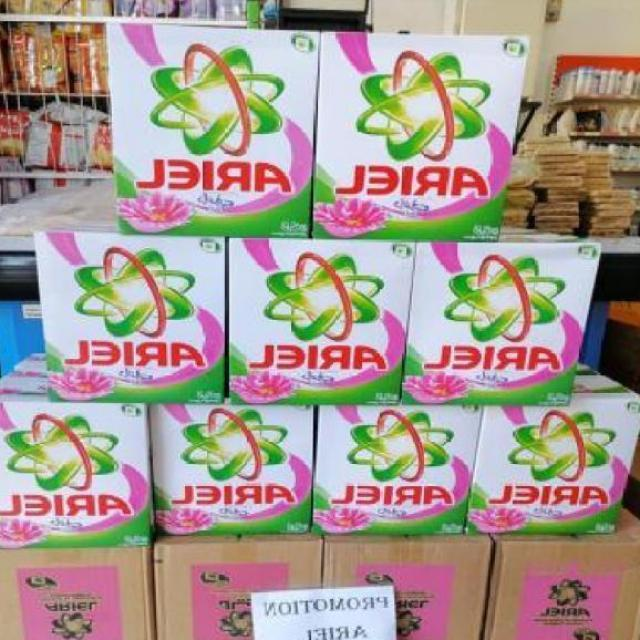Detergent: (319, 31, 528, 239), (120, 30, 322, 234), (398, 240, 593, 404), (41, 233, 230, 401), (224, 239, 411, 404), (468, 394, 639, 535), (153, 402, 320, 538), (0, 395, 144, 549), (314, 404, 474, 539)
